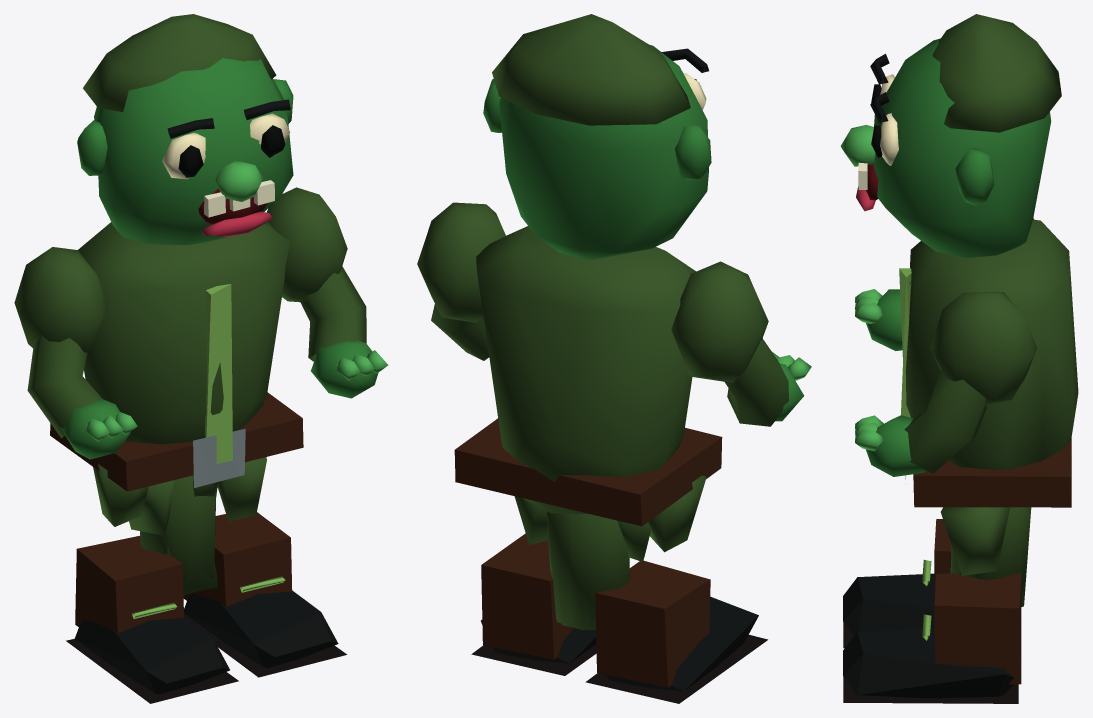
Rendered from normal-lod.glb.
The picture shows the model from 3 angles, left to right: view 1: azimuth 30°, elevation 25°; view 2: azimuth 150°, elevation 25°; view 3: azimuth 270°, elevation 25°; orthographic projection. The views are drawn at different scales.
Visible parts, largest first — view 1: Body, Head, Arms, LegL, LegR; view 2: Body, Head, Arms, LegL, LegR; view 3: Head, Body, LegR, Arms, LegL.
Boxes of the visible parts, <box> form: Body: <box>50,222,303,535</box>; Head: <box>77,14,293,244</box>; Arms: <box>14,187,388,459</box>; LegL: <box>66,479,238,703</box>; LegR: <box>140,475,346,677</box>; Body: <box>454,226,722,561</box>; Head: <box>483,14,711,260</box>; Arms: <box>417,202,811,426</box>; LegL: <box>546,511,767,703</box>; LegR: <box>471,513,625,675</box>; Head: <box>840,14,1061,257</box>; Body: <box>899,219,1078,575</box>; LegR: <box>843,507,1031,703</box>; Arms: <box>855,218,1037,476</box>; LegL: <box>843,507,1023,648</box>.
Bounding box in the file's own units: 0.6749 × 1.2 × 0.4055.
1 material, 1 textured.
